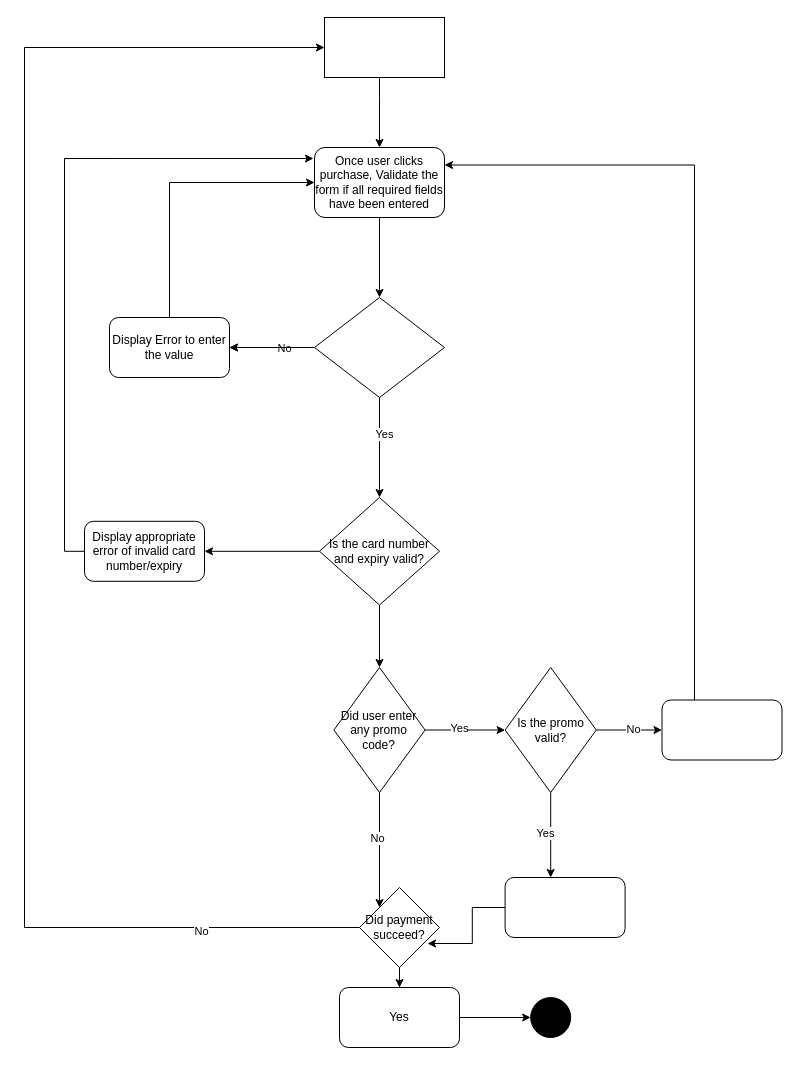
This 800x1065 diagram has some shape labels left out. Each missing label, with the centre of its shape:
"Apply the discount" goes at pixel 564 907.
"Display Error of invalid promo code" goes at pixel 721 729.
"Do all required fields have a value?" goes at pixel 379 347.
"Payment Page" goes at pixel 384 47.
